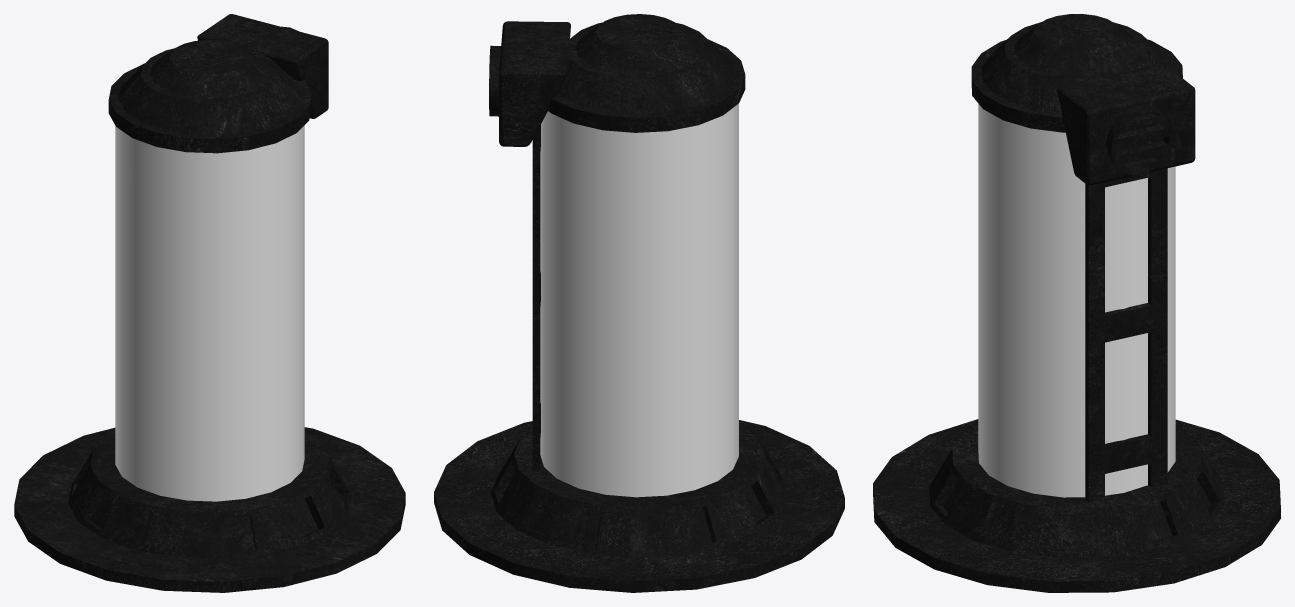
File: incubator.fbx
The picture shows the model from 3 angles, left to right: view 1: azimuth 30°, elevation 25°; view 2: azimuth 150°, elevation 25°; view 3: azimuth 270°, elevation 25°; orthographic projection. The views are drawn at different scales.
Parts seen in each view (by area): view 1: polySurface10, polySurface11, polySurface3, polySurface2; view 2: polySurface10, polySurface11, polySurface3, polySurface2, polySurface8, polySurface1; view 3: polySurface10, polySurface11, polySurface3, polySurface2, polySurface8, polySurface6, polySurface1, polySurface7, polySurface5.
Boxes of the visible parts, x1,y1,x2,y2 form: polySurface10: (115, 125, 304, 501); polySurface11: (14, 427, 405, 592); polySurface3: (108, 39, 311, 153); polySurface2: (197, 14, 328, 118); polySurface10: (540, 103, 738, 497); polySurface11: (434, 420, 844, 592); polySurface3: (548, 14, 745, 132); polySurface2: (499, 21, 570, 146); polySurface8: (532, 126, 540, 471); polySurface1: (489, 45, 501, 116); polySurface10: (978, 104, 1175, 497); polySurface11: (873, 419, 1280, 592); polySurface3: (971, 14, 1182, 132); polySurface2: (1057, 63, 1195, 185); polySurface8: (1148, 168, 1167, 487); polySurface6: (1085, 182, 1104, 501); polySurface1: (1106, 105, 1173, 175); polySurface7: (1094, 303, 1163, 344); polySurface5: (1090, 434, 1158, 477).
Bounding box in the file's own units: 295 × 379 × 295.
